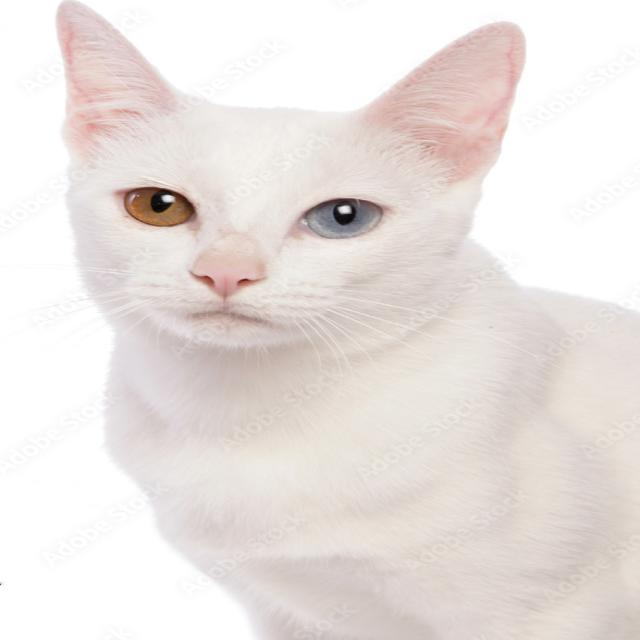Khao Manee: (43, 0, 640, 640)
